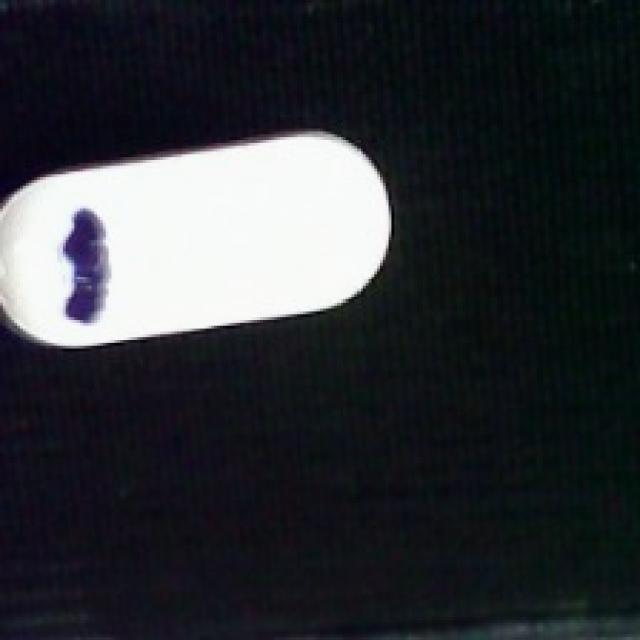defected: (0, 126, 400, 346)
